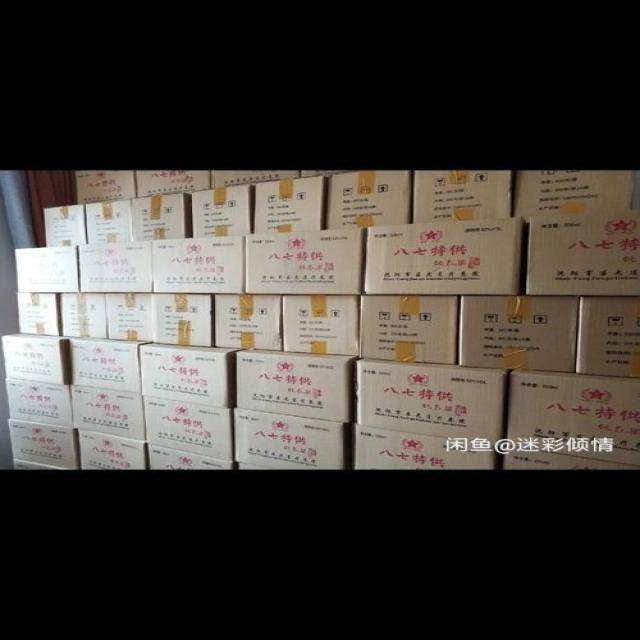box: (355, 359, 516, 446), (506, 369, 640, 466), (364, 217, 525, 295), (526, 210, 640, 297), (458, 295, 580, 372), (236, 349, 357, 424), (246, 225, 369, 295), (140, 342, 246, 410), (358, 295, 457, 365), (234, 408, 344, 470), (355, 423, 495, 469), (143, 395, 234, 462), (511, 170, 634, 217), (154, 235, 246, 294), (576, 296, 640, 377), (413, 170, 509, 223), (326, 170, 410, 229), (69, 337, 154, 395), (283, 294, 358, 356), (253, 176, 330, 234), (4, 332, 83, 385), (72, 386, 146, 442), (79, 239, 152, 293), (215, 294, 284, 350), (6, 378, 76, 430), (9, 418, 77, 470), (192, 184, 256, 238), (502, 446, 640, 470), (152, 294, 215, 346), (14, 246, 79, 294), (132, 191, 192, 240), (78, 429, 146, 470), (106, 293, 155, 342), (147, 443, 233, 470), (74, 170, 136, 205), (136, 170, 210, 199), (61, 293, 106, 339), (86, 198, 132, 243), (17, 293, 61, 336), (44, 204, 87, 246), (209, 170, 298, 189), (12, 458, 74, 470), (300, 171, 362, 179)
